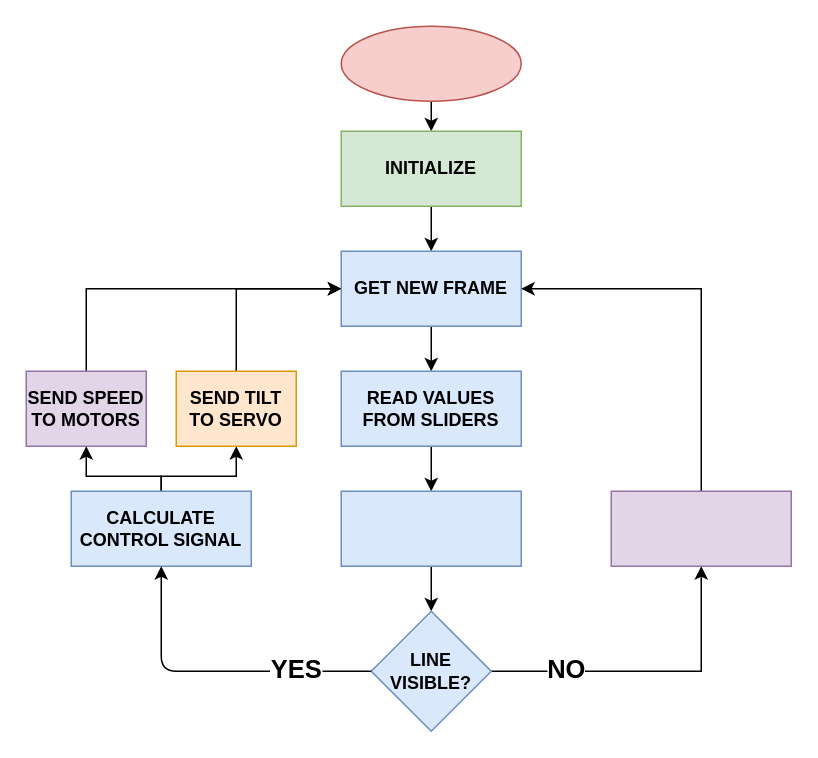
The diagram is 818 pixels wide and 758 high, and some of its shapes have lost their labels. The box of each missing label's shape, as (x1, y1, x2, y2) in pixels:
EXTRACT LINE AND CALCULATE ERROR: (340, 490, 521, 566)
START: (340, 25, 521, 101)
STOP MOTORS: (610, 490, 791, 566)
